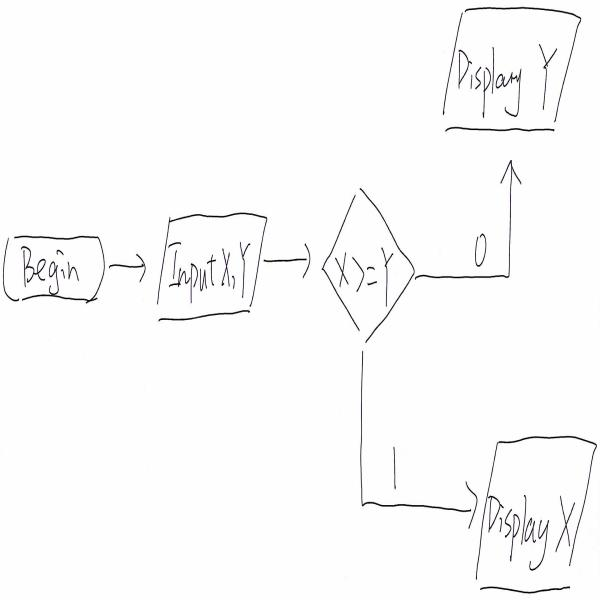arrow: (351, 354, 479, 554), (423, 139, 520, 291), (267, 242, 313, 280), (106, 249, 148, 287), (461, 472, 477, 531), (501, 156, 521, 192)
data: (445, 7, 583, 137), (157, 214, 266, 314)
decision: (322, 184, 416, 336)
terminator: (5, 234, 104, 306)
text: (458, 37, 552, 120), (490, 488, 572, 573), (170, 236, 249, 294), (340, 241, 390, 308), (19, 242, 82, 288), (469, 226, 491, 263), (388, 442, 402, 483)
